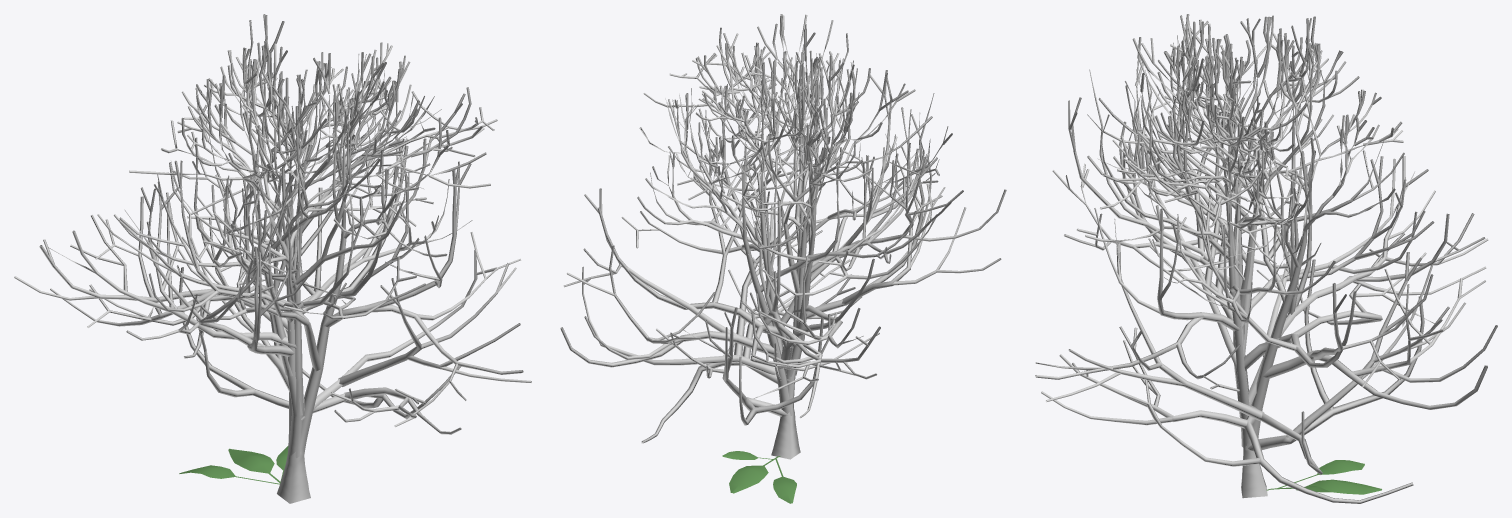
The model's file is tree.dae.
3 views of the same model, side by side, from view 1: azimuth 30°, elevation 25°; view 2: azimuth 150°, elevation 25°; view 3: azimuth 270°, elevation 25° (orthographic). The views are drawn at different scales.
Parts seen in each view (by area): view 1: tree, Stamm, Blatt; view 2: tree, Stamm, Blatt; view 3: tree, Stamm, Blatt.
Boxes of the visible parts, box(x1,y1,x2,y2) form: tree: box(14, 14, 531, 434); Stamm: box(39, 129, 523, 503); Blatt: box(179, 446, 288, 484); tree: box(563, 14, 1006, 418); Stamm: box(560, 103, 925, 459); Blatt: box(722, 451, 796, 503); tree: box(1035, 14, 1497, 474); Stamm: box(1035, 119, 1487, 503); Blatt: box(1266, 460, 1381, 494).
Size of the model in its own units: 20.73 by 19.68 by 22.32.
